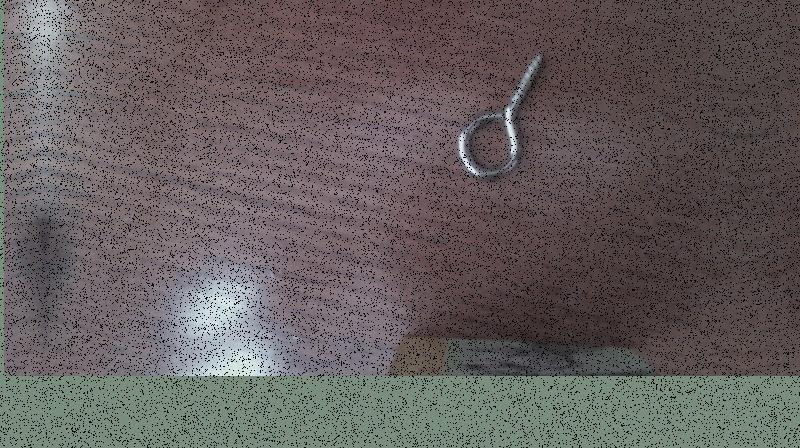O001: (453, 49, 546, 183)
